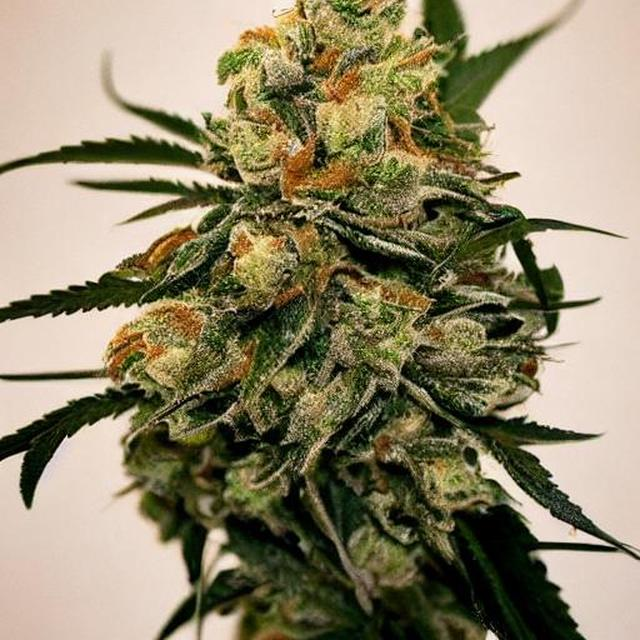Marijuana Plant: (63, 1, 548, 640)
